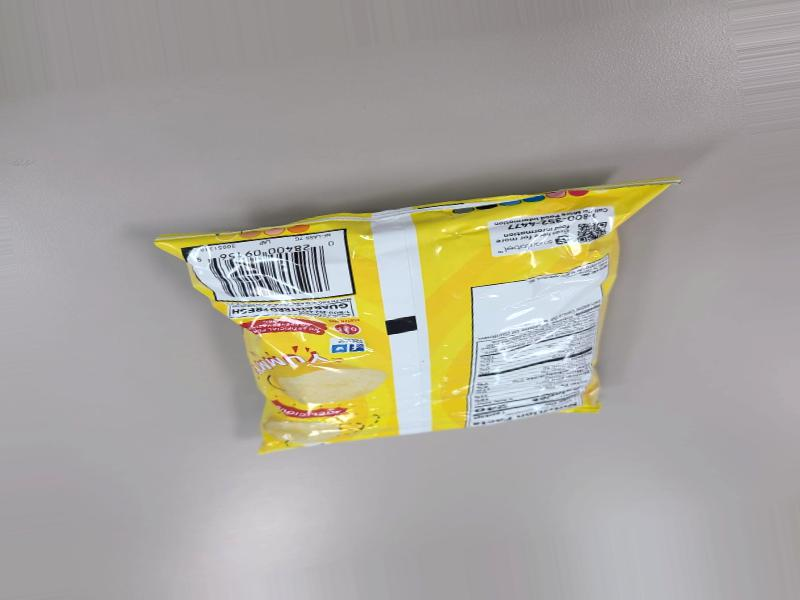lays: (168, 185, 670, 459)
